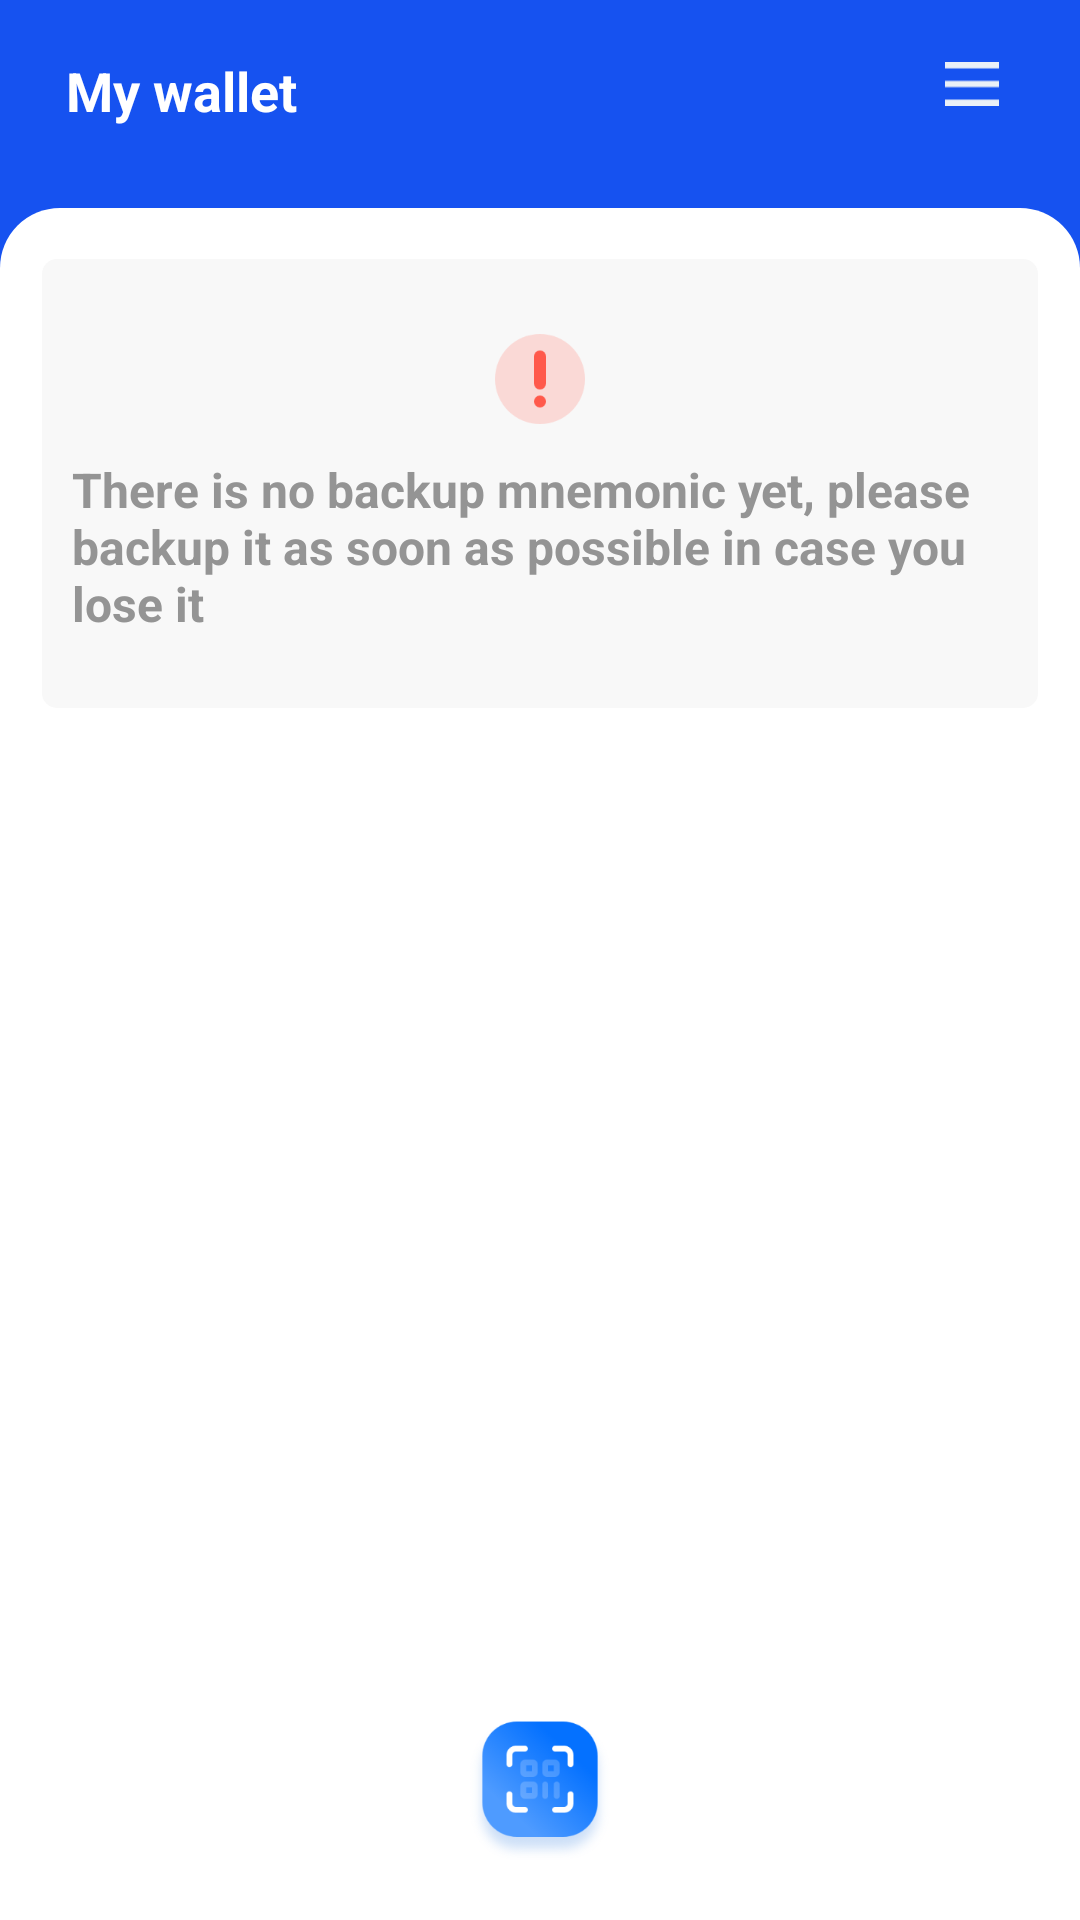

Icons on this 1080px x 1920px Android screen, each with its box as (x1, y1, x2, y2):
home sao: (482, 1721, 598, 1849)
set: (945, 62, 999, 106)
